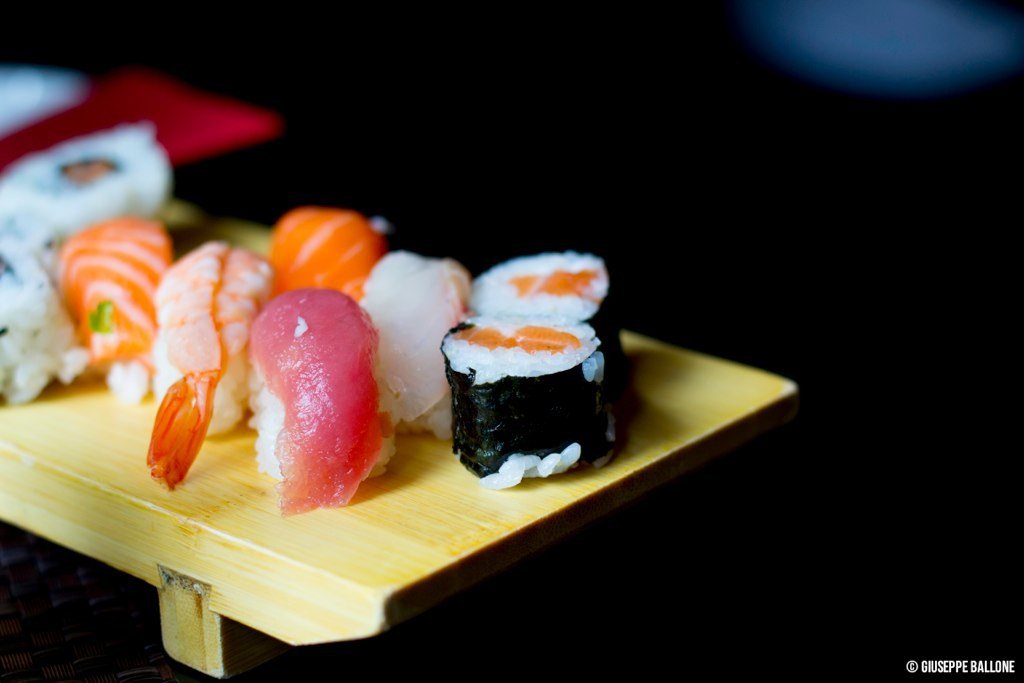sushi: (0, 127, 633, 514), (443, 318, 605, 484)
